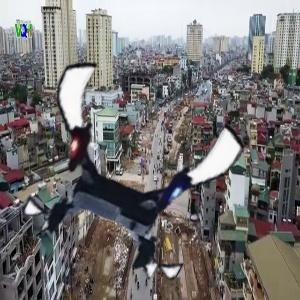drone: (24, 69, 227, 272)
